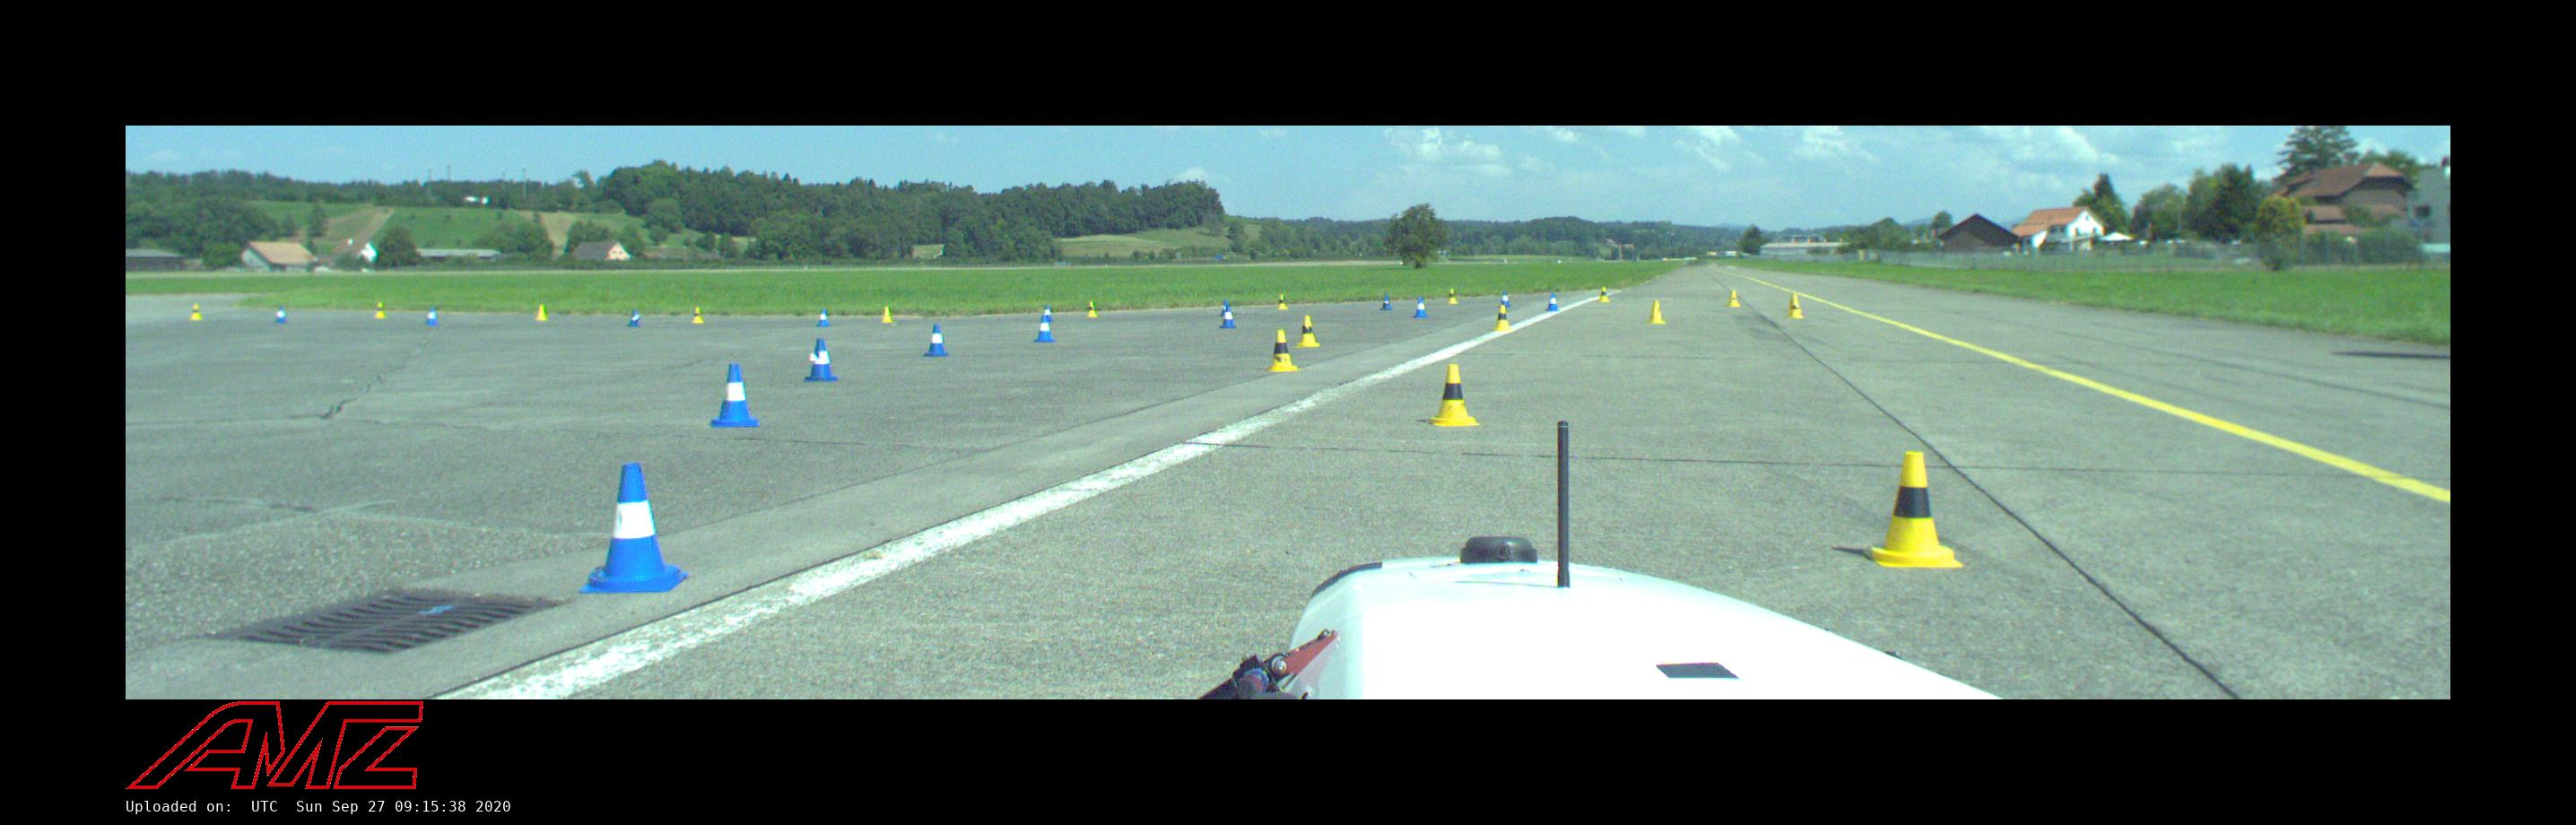blue_cone: (578, 463, 685, 592), (711, 365, 759, 426), (805, 339, 838, 381), (923, 325, 948, 357), (1033, 316, 1055, 342), (1221, 306, 1235, 329), (1413, 297, 1428, 317), (1544, 293, 1559, 311), (817, 309, 830, 327), (425, 307, 439, 325), (628, 309, 641, 327), (1498, 291, 1511, 307), (1380, 296, 1391, 311), (276, 307, 286, 322), (1045, 306, 1053, 320), (1221, 299, 1226, 316)
yellow_cone: (1863, 454, 1963, 565), (1428, 365, 1480, 426), (1267, 330, 1298, 370), (1296, 316, 1319, 347), (1646, 301, 1666, 324), (1786, 294, 1804, 319), (1493, 307, 1511, 330), (881, 307, 894, 322), (1728, 291, 1740, 307), (693, 307, 705, 322), (1277, 294, 1288, 309), (191, 304, 202, 319), (536, 306, 547, 320), (375, 302, 386, 317), (1088, 301, 1097, 317), (1599, 288, 1608, 301), (1447, 289, 1457, 302)
